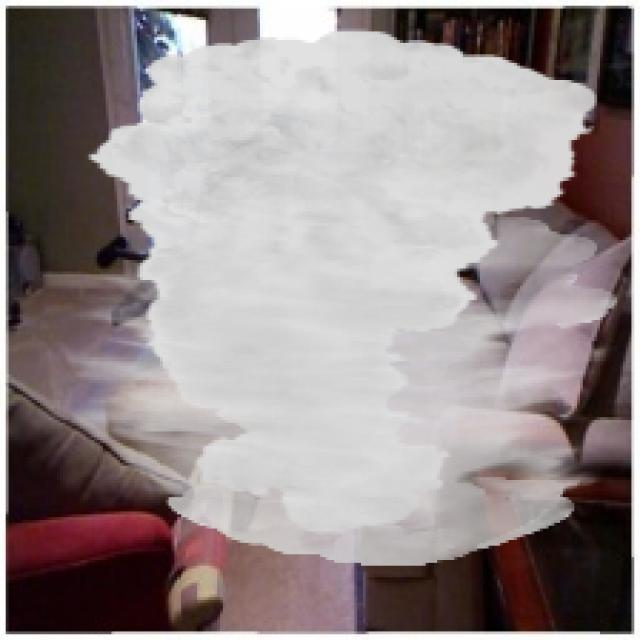Smoke: (65, 28, 618, 566)
